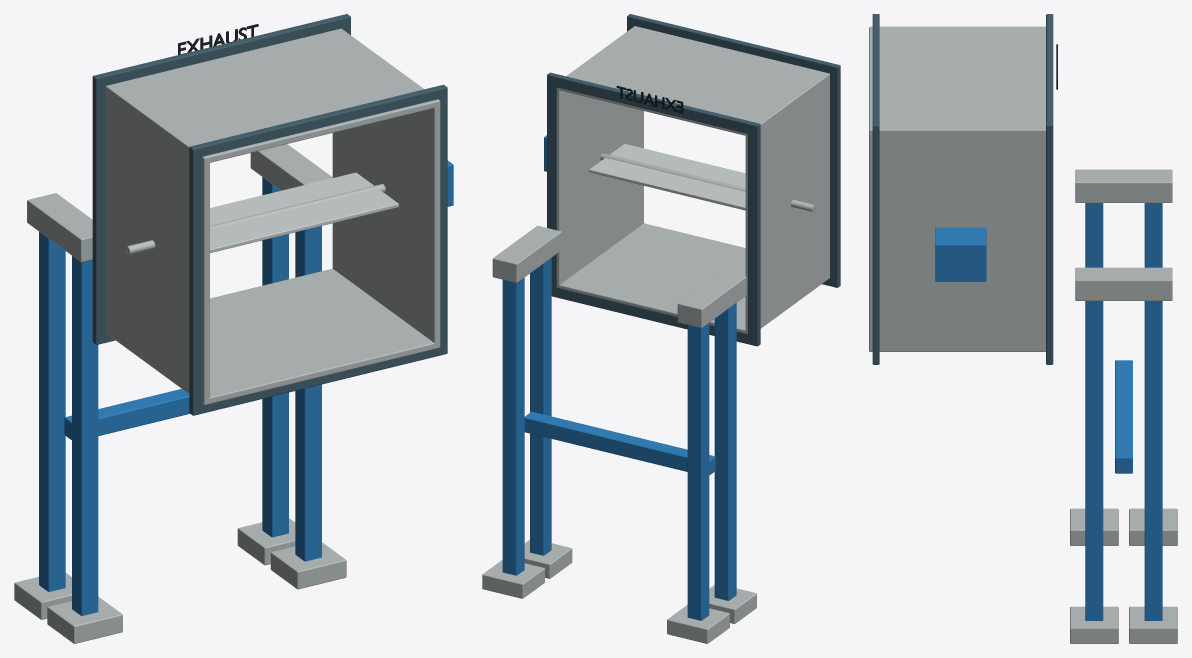
File: ventilation_damper.glb
3 views of the same model, side by side, from view 1: azimuth 30°, elevation 25°; view 2: azimuth 150°, elevation 25°; view 3: azimuth 270°, elevation 25° (orthographic). The views are drawn at different scales.
Parts seen in each view (by area): view 1: DUCT_side_-0.465, DUCT_horizontal_0.465, DUCT_horizontal_-0.465, DUCT_side_0.465, EXHAUST_stand_-0.451_2.43, EXHAUST_stand_-0.451_2.2, DAMPER_vane, EXHAUST_stand_0.451_2.2, EXHAUST_stand_0.451_2.43, DUCT_flange_horizontal_0.49_2.026, DUCT_flange_horizontal_0.49_1.35, DUCT_flange_vertical_-0.49_1.35 (+11 smaller); view 2: DUCT_side_-0.465, DUCT_horizontal_0.465, DUCT_side_0.465, DUCT_horizontal_-0.465, EXHAUST_stand_0.451_2.43, EXHAUST_stand_-0.451_2.43, EXHAUST_stand_-0.451_2.2, EXHAUST_stand_0.451_2.2, DAMPER_vane, EXHAUST_crossbar, DUCT_flange_horizontal_0.49_2.026, DUCT_flange_vertical_-0.49_2.026 (+12 smaller); view 3: DUCT_side_0.465, DUCT_horizontal_0.465, EXHAUST_stand_0.451_2.2, EXHAUST_stand_0.451_2.43, EXHAUST_side_mount_0.451, EXHAUST_side_mount_-0.451, DAMPER_actuator, EXHAUST_crossbar, DUCT_flange_vertical_0.49_2.026, DUCT_flange_vertical_0.49_1.35, EXHAUST_foot_0.451_2.2, EXHAUST_foot_0.451_2.43 (+8 smaller).
Part boxes in pixels (left/top/right/bottom): DUCT_side_-0.465: left=105, top=85, right=209, bottom=404; DUCT_horizontal_0.465: left=105, top=29, right=440, bottom=163; DUCT_horizontal_-0.465: left=106, top=268, right=440, bottom=405; DUCT_side_0.465: left=332, top=28, right=440, bottom=348; EXHAUST_stand_-0.451_2.43: left=39, top=232, right=65, bottom=591; EXHAUST_stand_-0.451_2.2: left=72, top=256, right=98, bottom=615; DAMPER_vane: left=210, top=172, right=398, bottom=252; EXHAUST_stand_0.451_2.2: left=295, top=226, right=321, bottom=561; EXHAUST_stand_0.451_2.43: left=262, top=177, right=288, bottom=537; DUCT_flange_horizontal_0.49_2.026: left=92, top=14, right=350, bottom=90; DUCT_flange_horizontal_0.49_1.35: left=189, top=84, right=447, bottom=160; DUCT_flange_vertical_-0.49_1.35: left=189, top=150, right=204, bottom=412; DUCT_side_-0.465: left=745, top=72, right=829, bottom=331; DUCT_horizontal_0.465: left=557, top=27, right=829, bottom=135; DUCT_side_0.465: left=557, top=26, right=643, bottom=287; DUCT_horizontal_-0.465: left=558, top=223, right=829, bottom=333; EXHAUST_stand_0.451_2.43: left=502, top=277, right=524, bottom=575; EXHAUST_stand_-0.451_2.43: left=687, top=323, right=709, bottom=620; EXHAUST_stand_-0.451_2.2: left=714, top=303, right=736, bottom=600; EXHAUST_stand_0.451_2.2: left=530, top=258, right=551, bottom=555; DAMPER_vane: left=589, top=144, right=745, bottom=210; EXHAUST_crossbar: left=524, top=411, right=715, bottom=475; DUCT_flange_horizontal_0.49_2.026: left=547, top=72, right=760, bottom=135; DUCT_flange_vertical_-0.49_2.026: left=748, top=127, right=760, bottom=343; DUCT_side_0.465: left=869, top=127, right=1045, bottom=351; DUCT_horizontal_0.465: left=869, top=28, right=1045, bottom=134; EXHAUST_stand_0.451_2.2: left=1085, top=301, right=1103, bottom=620; EXHAUST_stand_0.451_2.43: left=1144, top=301, right=1162, bottom=620; EXHAUST_side_mount_0.451: left=1075, top=267, right=1172, bottom=300; EXHAUST_side_mount_-0.451: left=1075, top=169, right=1172, bottom=202; DAMPER_actuator: left=935, top=227, right=986, bottom=281; EXHAUST_crossbar: left=1115, top=360, right=1132, bottom=473; DUCT_flange_vertical_0.49_2.026: left=1046, top=128, right=1053, bottom=361; DUCT_flange_vertical_0.49_1.35: left=872, top=128, right=879, bottom=361; EXHAUST_foot_0.451_2.2: left=1070, top=606, right=1118, bottom=643; EXHAUST_foot_0.451_2.43: left=1129, top=606, right=1177, bottom=643.
Size of the model in its own units: 1.26 by 2.25 by 1.2.
